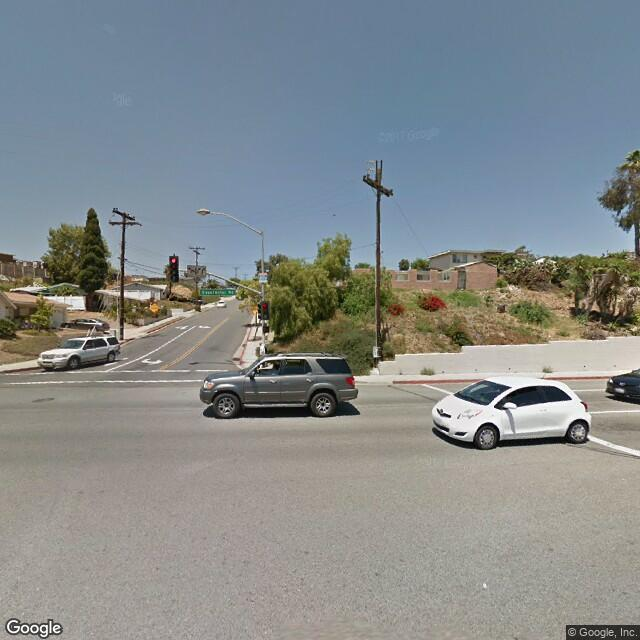litter: (479, 580, 495, 589)
